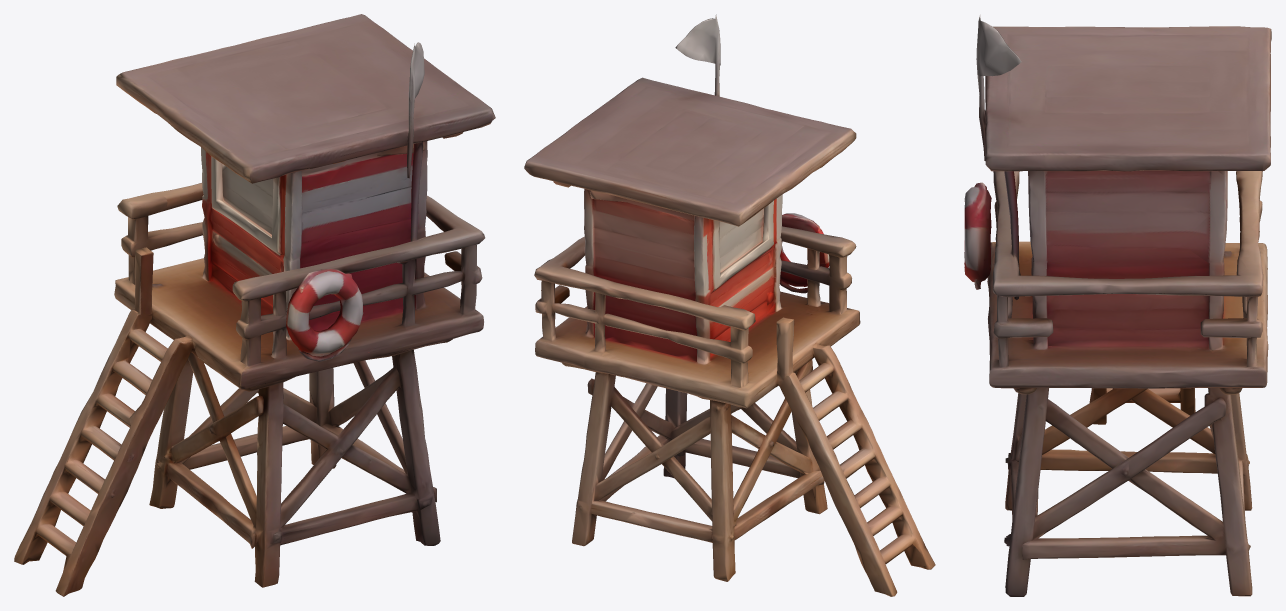
The model's file is lifeguard-tower_raw.glb.
3 views of the same model, side by side, from view 1: azimuth 30°, elevation 25°; view 2: azimuth 150°, elevation 25°; view 3: azimuth 270°, elevation 25° (orthographic). The views are drawn at different scales.
Visible parts, largest first — view 1: tripo_node_f6914c19-6b27-4537-9715-5a48c902ce46; view 2: tripo_node_f6914c19-6b27-4537-9715-5a48c902ce46; view 3: tripo_node_f6914c19-6b27-4537-9715-5a48c902ce46.
Boxes of the visible parts, bbox=[...] form: tripo_node_f6914c19-6b27-4537-9715-5a48c902ce46: bbox=[14, 14, 495, 596]; tripo_node_f6914c19-6b27-4537-9715-5a48c902ce46: bbox=[524, 14, 935, 596]; tripo_node_f6914c19-6b27-4537-9715-5a48c902ce46: bbox=[964, 14, 1271, 596].
Bounding box in the file's own units: 0.775 × 1 × 0.495.
1 material, 1 textured.
